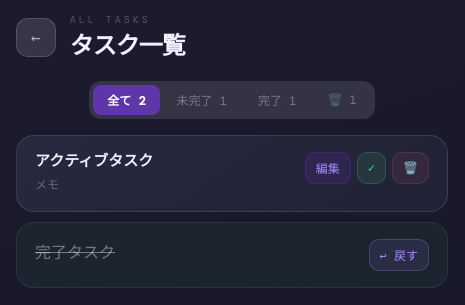
Test case: ListView — フィルター表示 › 完了: done のみ表示
Click the button "完了 1" at [277, 100], box [244,85,310,115]
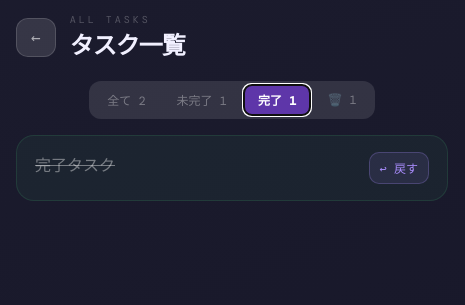
Expected: the text "完了タスク" is shown, [35,155,115,176]
Result: the text "アクティブタスク" is gone
